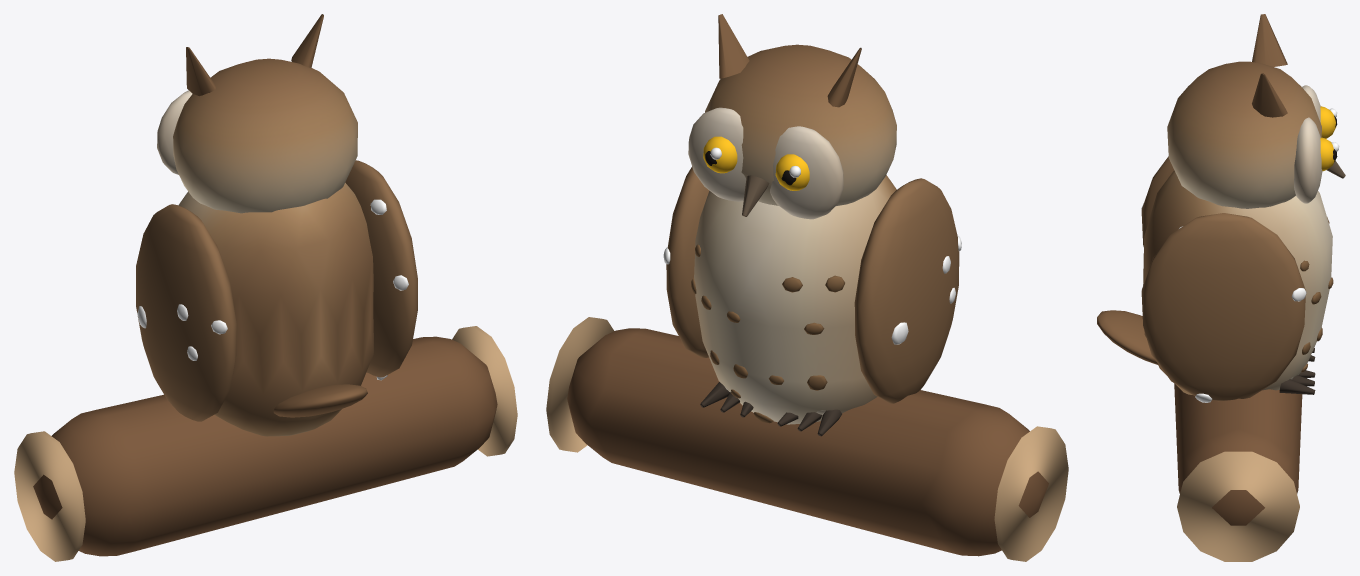
File: Owl.glb
3 views of the same model, side by side, from view 1: azimuth 30°, elevation 25°; view 2: azimuth 150°, elevation 25°; view 3: azimuth 270°, elevation 25° (orthographic). The views are drawn at different scales.
Visible parts, largest first — view 1: Body, Head, WingL, WingR; view 2: Body, Head, WingL, WingR; view 3: Body, WingR, Head, WingL.
Part boxes in pixels (x1=…): Body: x1=14, y1=182, x2=517, y2=561; Head: x1=157, y1=14, x2=357, y2=213; WingL: x1=136, y1=204, x2=236, y2=421; WingR: x1=345, y1=160, x2=417, y2=380; Body: x1=546, y1=175, x2=1068, y2=561; Head: x1=688, y1=14, x2=896, y2=219; WingL: x1=854, y1=178, x2=961, y2=403; WingR: x1=663, y1=166, x2=709, y2=357; Body: x1=1097, y1=170, x2=1333, y2=561; WingR: x1=1141, y1=213, x2=1306, y2=402; Head: x1=1167, y1=14, x2=1345, y2=208; WingL: x1=1141, y1=156, x2=1173, y2=246.
Bounding box in the file's own units: 3.85 × 3.85 × 2.03.
Materials: 1 (1 with a texture image).
